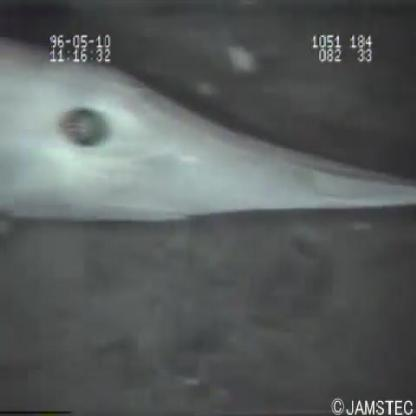Bio: (1, 34, 415, 231)
